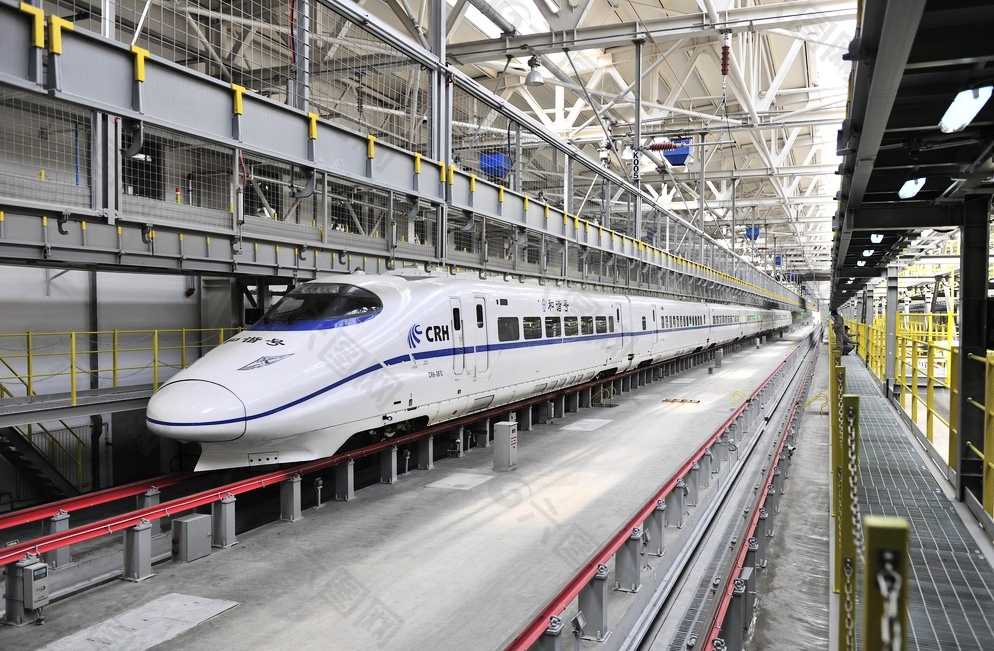hsrw: (141, 267, 796, 474)
